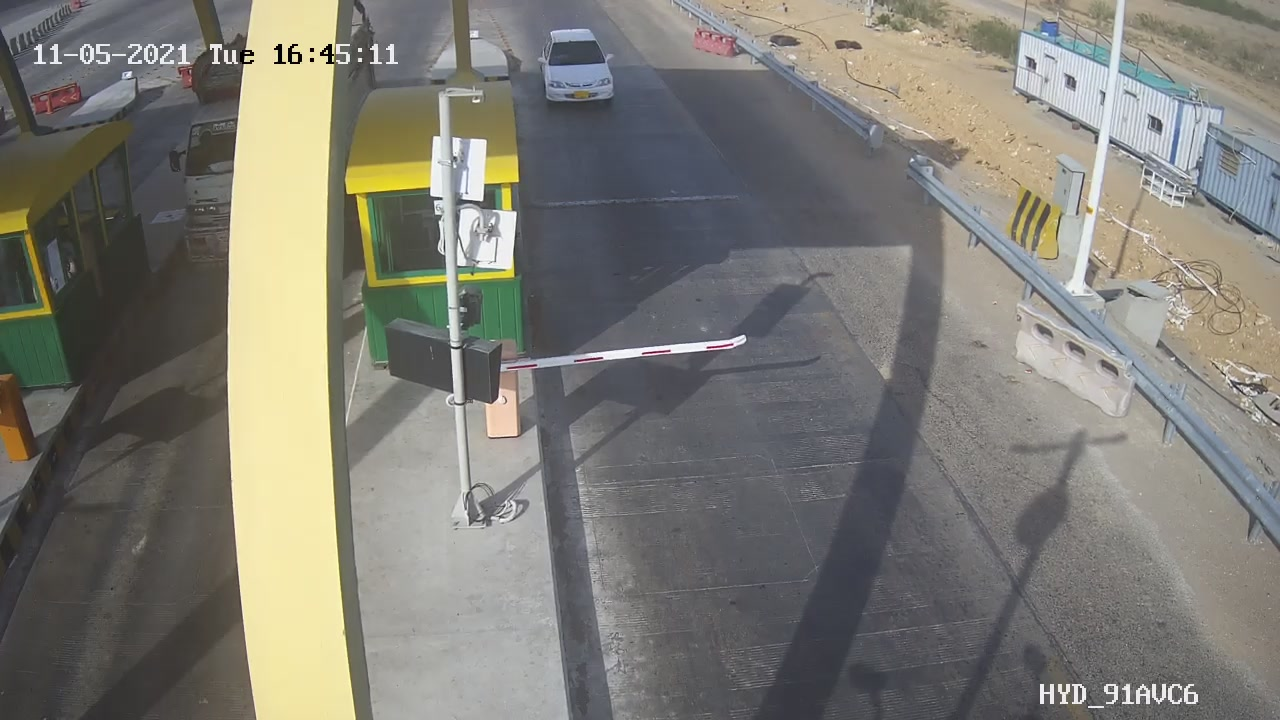F1: (521, 22, 638, 116)
